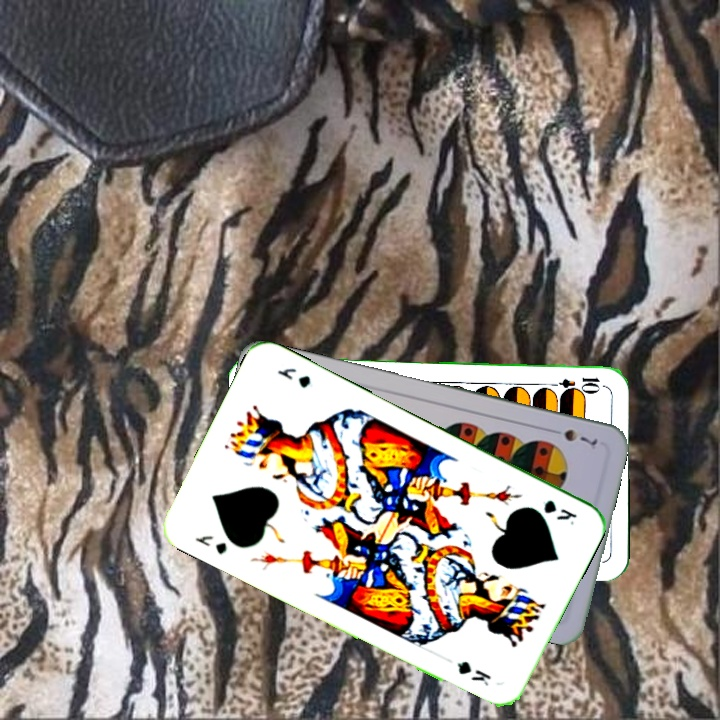E10: (543, 373, 602, 389)
GK: (539, 495, 580, 528), (191, 531, 230, 558)
S7: (545, 424, 600, 448)
